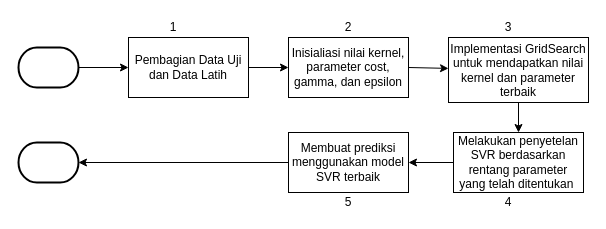
Image size: 606x229. Some labels were removed from this diagram. The centre of each missing label's shape, as x and y in pixels:
"End" belongs at pixel 48 162.
"Start" belongs at pixel 48 67.
